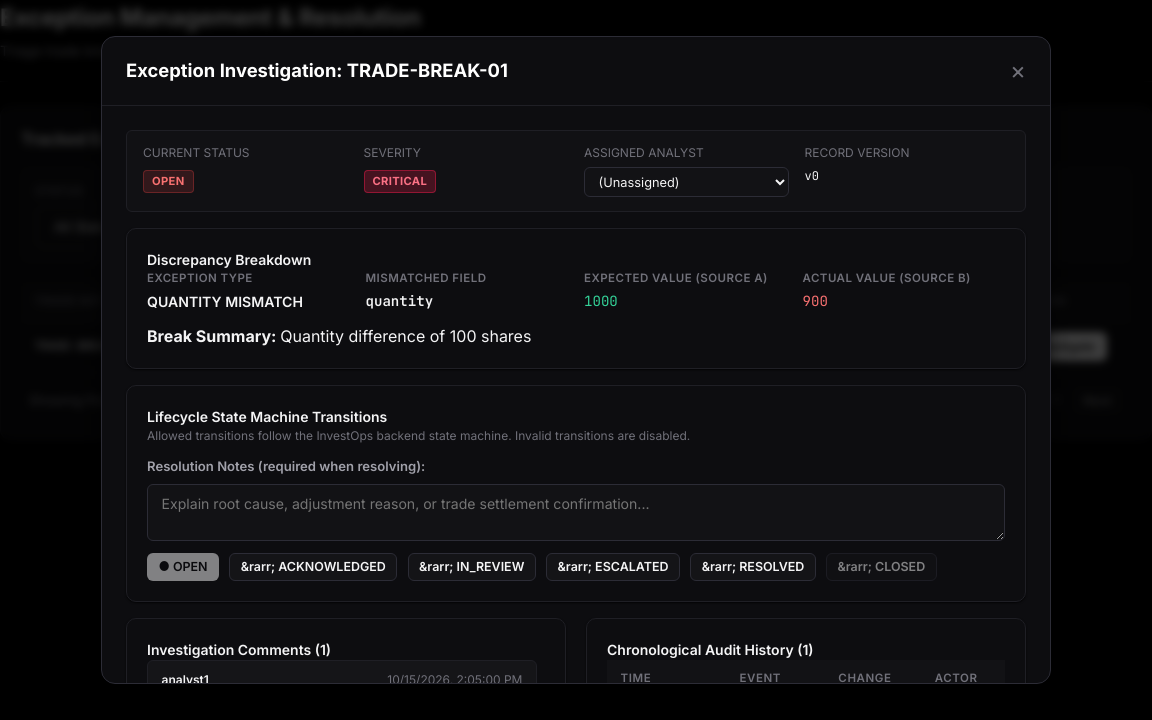
ExceptionPage › handles optimistic locking 409 conflict and prompts user to refresh stale record
This screenshot has width=1152, height=720.
Expected: the text "TRADE-BREAK-01" is shown, left=21, top=321, right=161, bottom=372
Click the button "&rarr; ACKNOWLEDGED" at (313, 567), box left=229, top=553, right=397, bottom=581
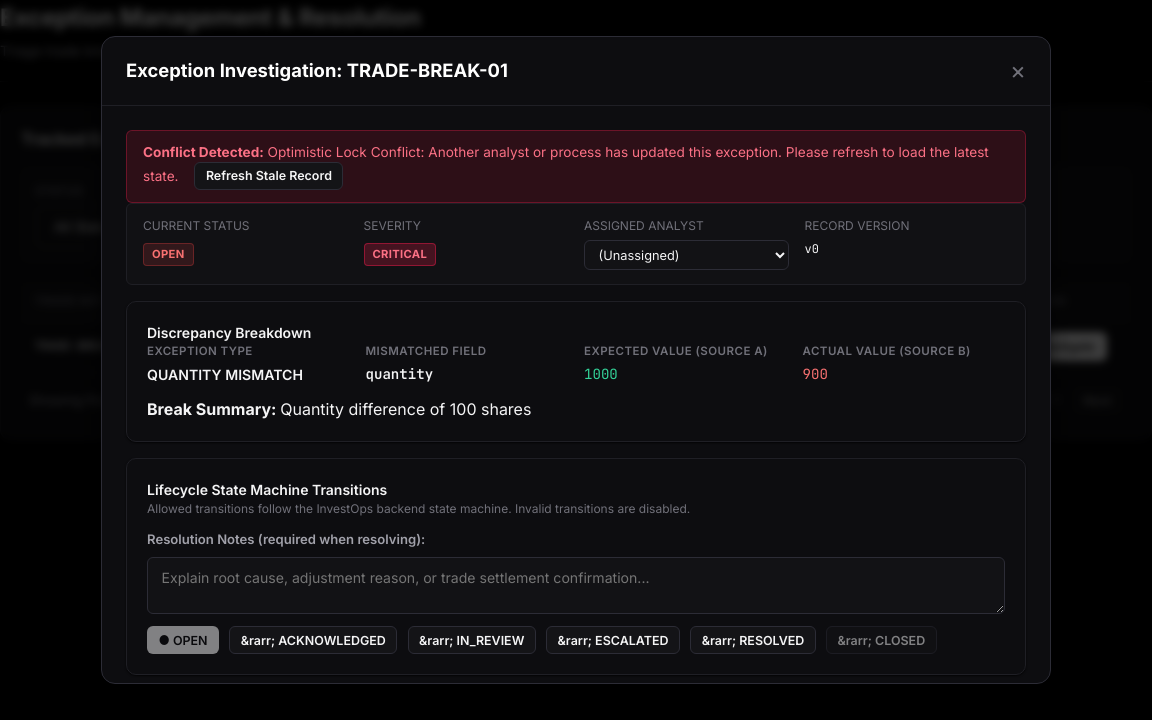
Result: the message with test id "optimistic-lock-alert" is shown at left=126, top=130, right=1026, bottom=203
Result: the button "Refresh Stale Record" is shown at left=194, top=162, right=343, bottom=190
